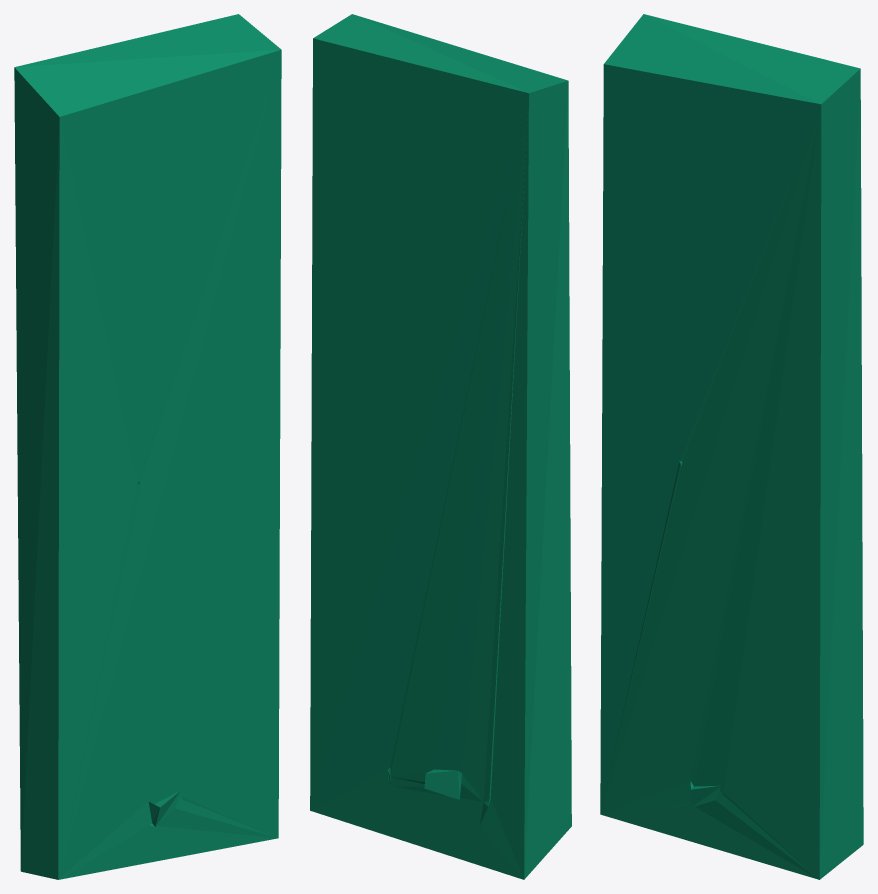
3 views of the same model, side by side, from view 1: azimuth 30°, elevation 25°; view 2: azimuth 150°, elevation 25°; view 3: azimuth 330°, elevation 25° (orthographic). The views are drawn at different scales.
Parts seen in each view (by area): view 1: 577_Cube.2324; view 2: 577_Cube.2324; view 3: 577_Cube.2324.
Boxes of the visible parts, x1,y1,x2,y2 form: 577_Cube.2324: (14, 14, 281, 879); 577_Cube.2324: (310, 14, 571, 879); 577_Cube.2324: (600, 14, 863, 879).
Size of the model in its own units: 3.62 by 12.41 by 1.59.
